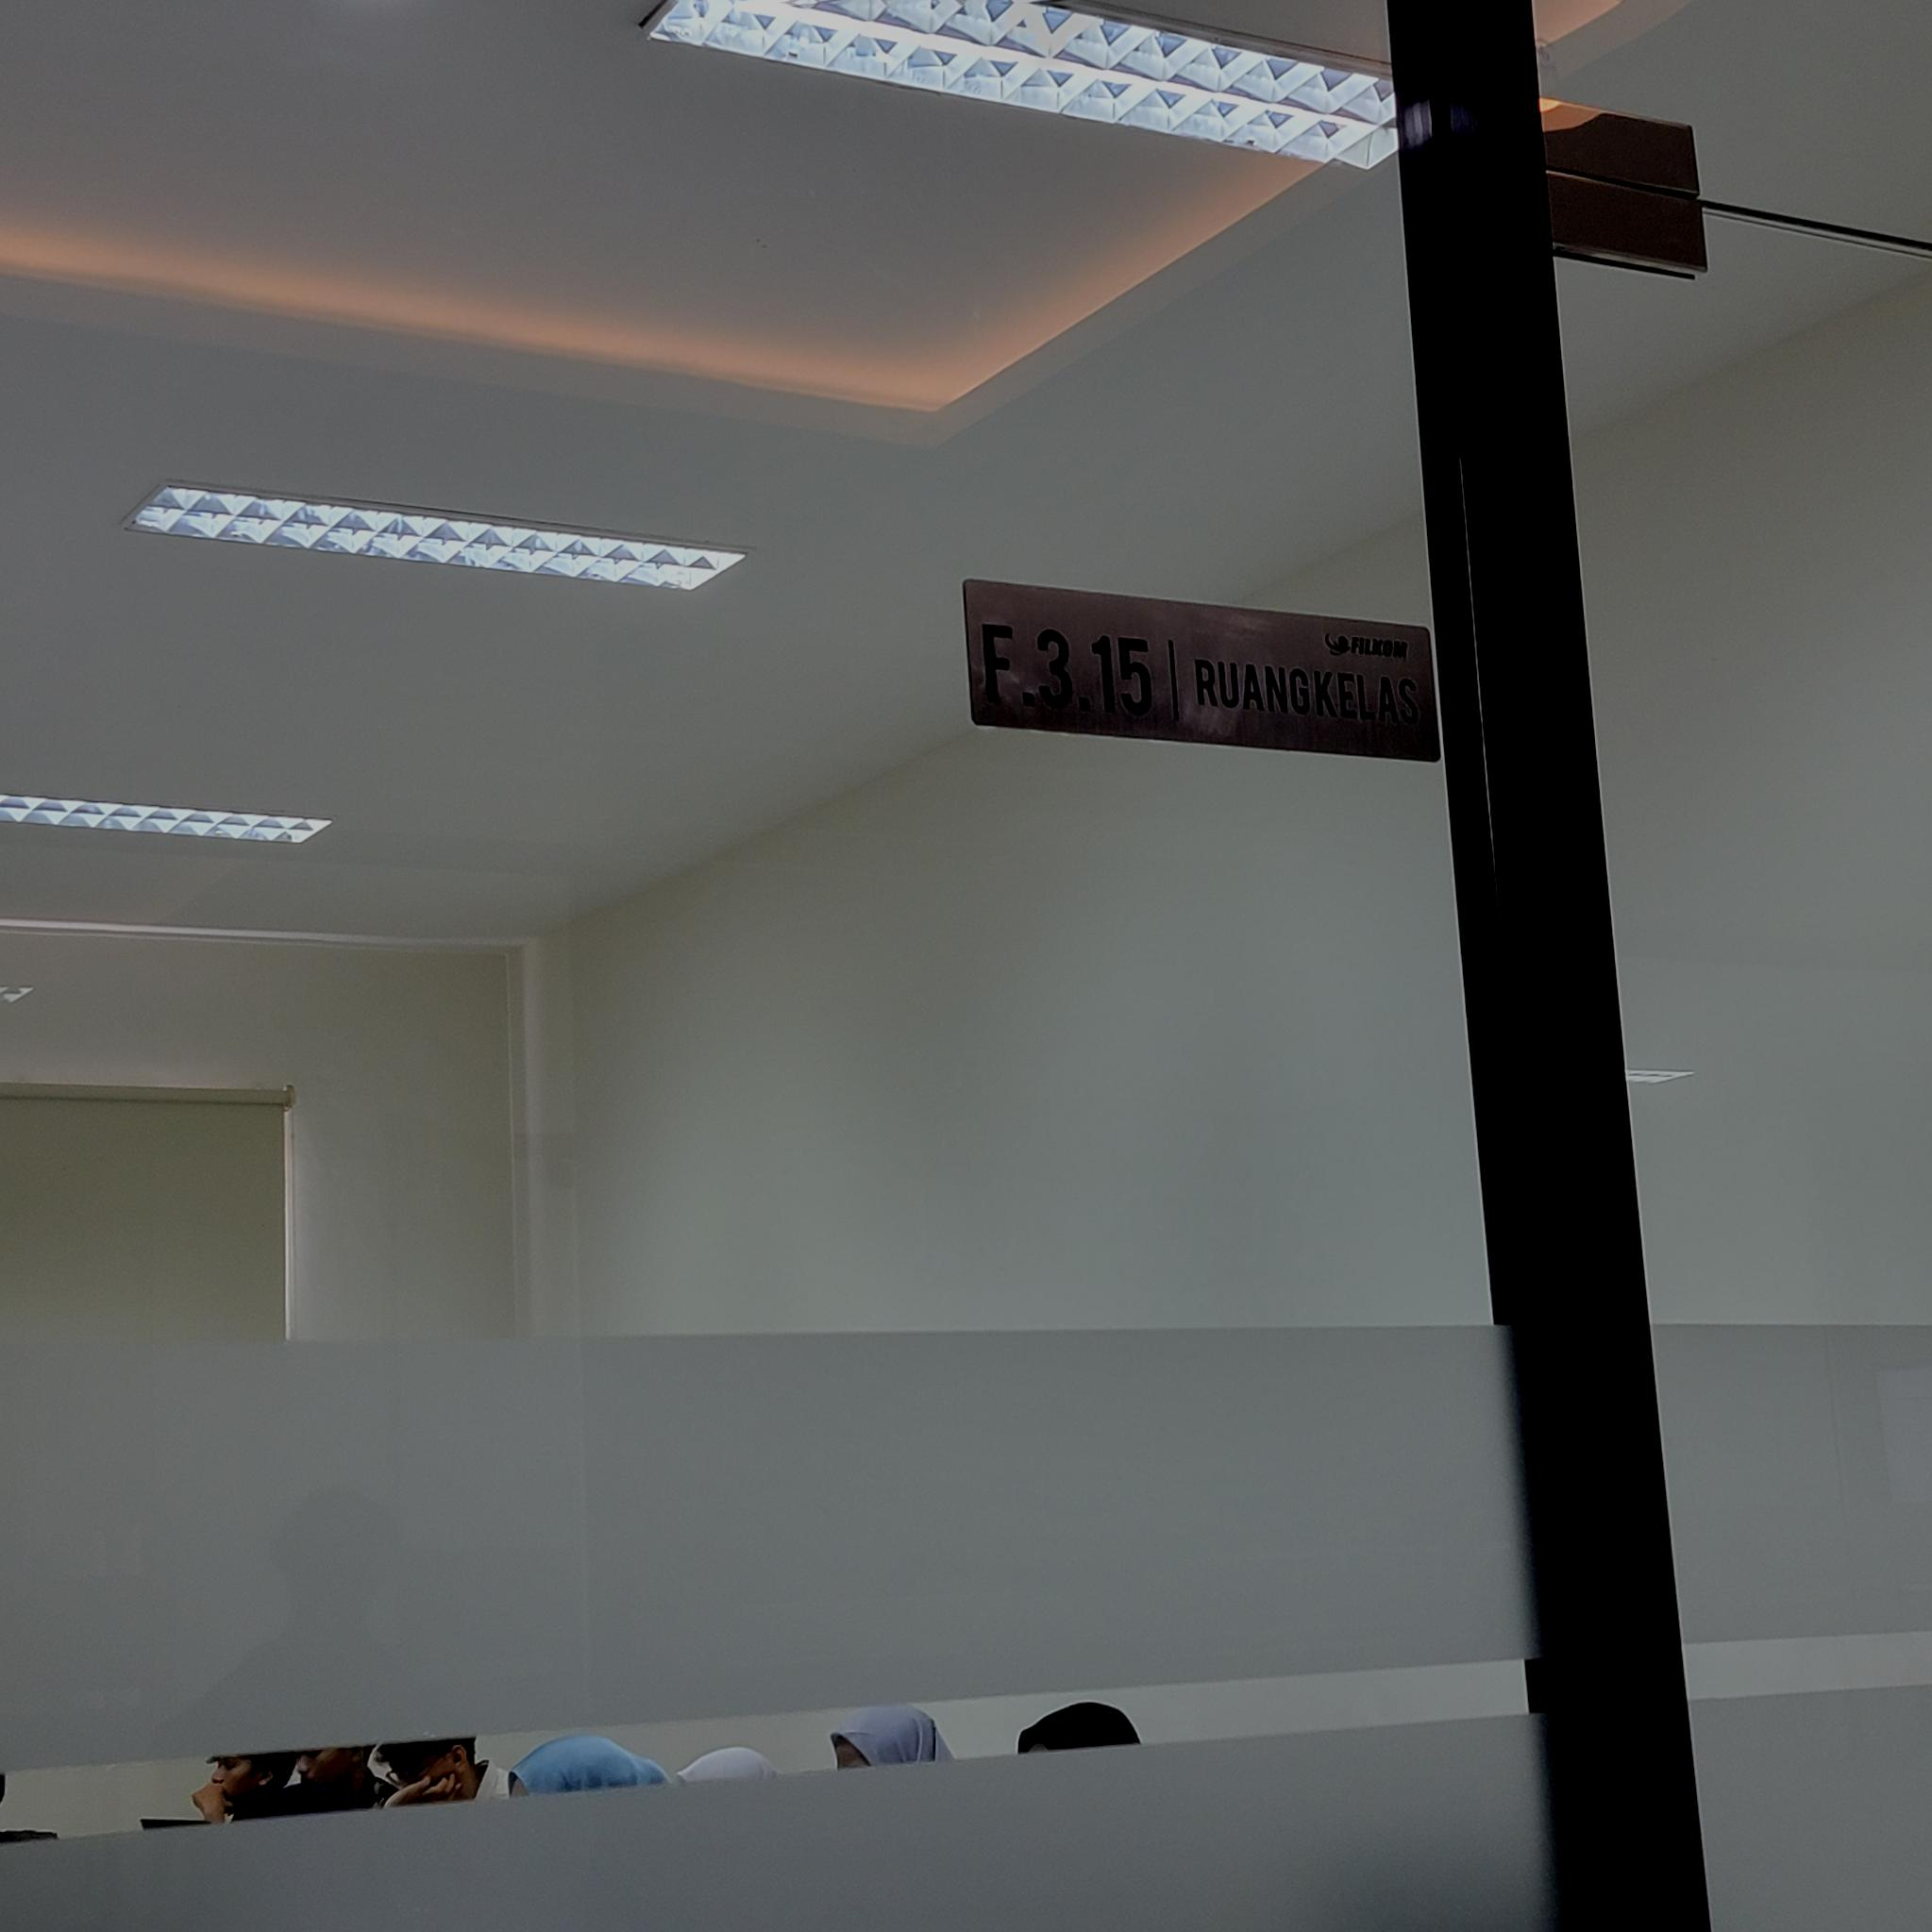plate: (964, 579, 1440, 764)
